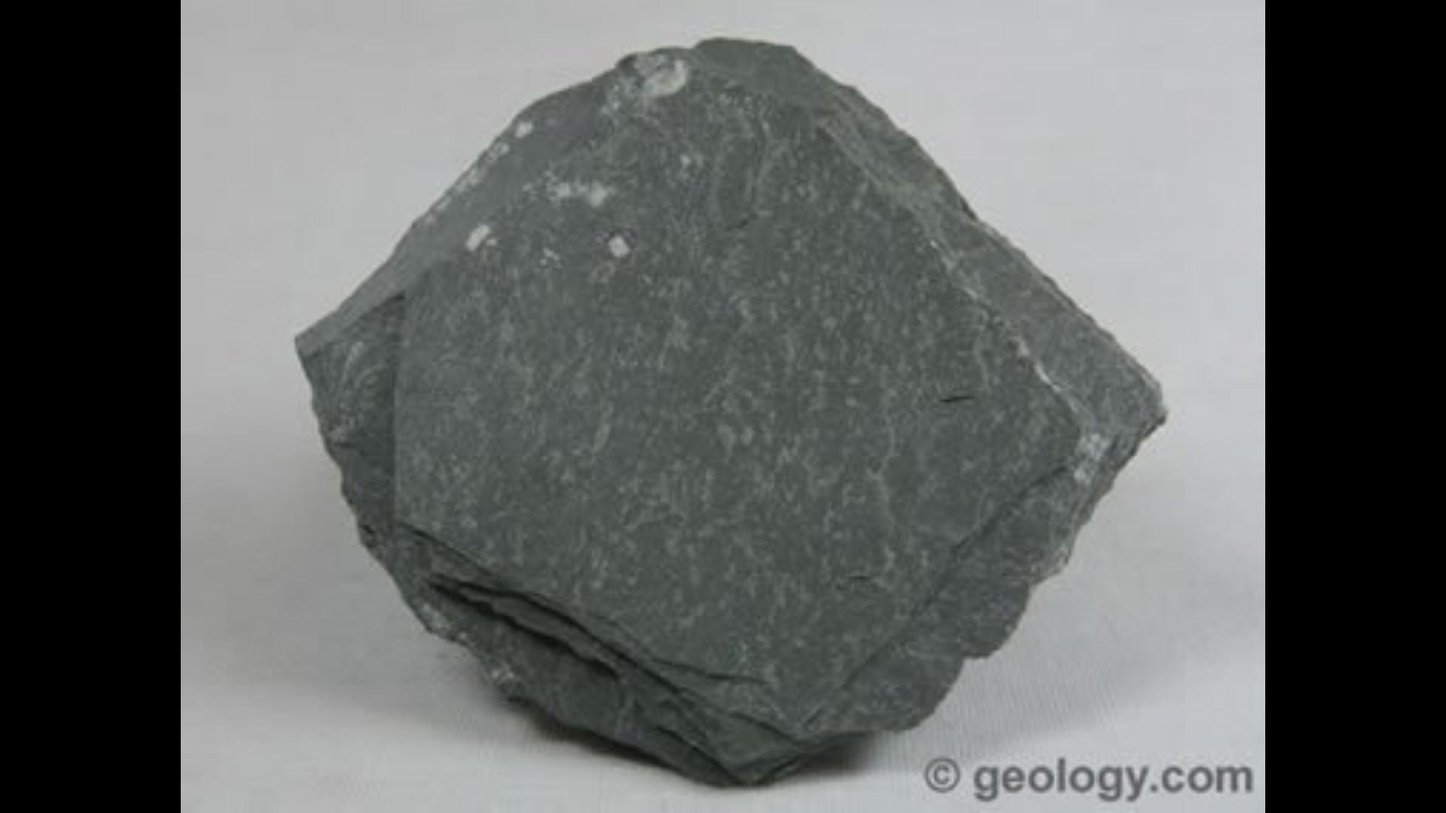rock: (298, 40, 1163, 782)
